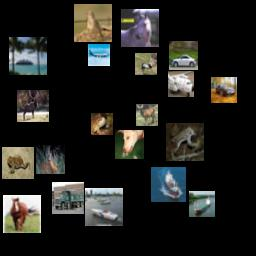airplane: (168, 71, 194, 97), (88, 44, 110, 66)
automobile: (169, 41, 198, 70), (211, 77, 237, 103)
bird: (74, 4, 112, 42), (135, 53, 157, 75)
deer: (17, 90, 49, 122), (36, 145, 65, 174), (136, 104, 158, 126)
dog: (115, 130, 144, 159)
frog: (166, 123, 204, 161), (2, 147, 34, 179), (91, 113, 113, 135)
ship: (9, 37, 47, 75), (85, 188, 123, 226), (151, 167, 186, 202), (189, 191, 215, 217)
truck: (52, 182, 84, 214)
